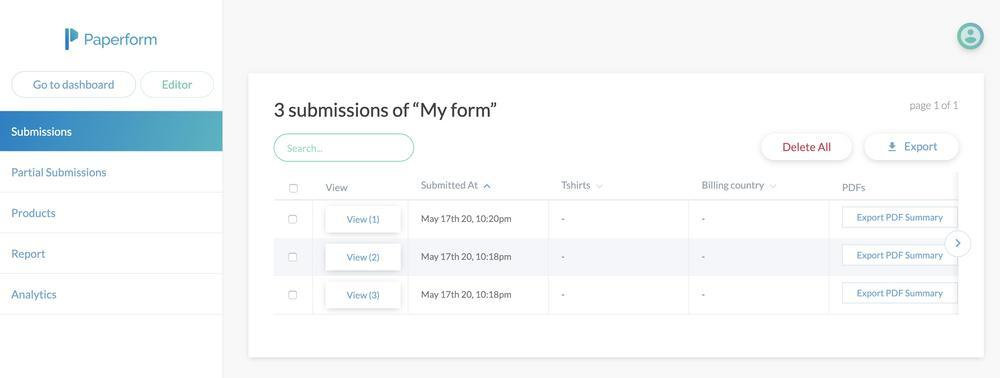button: (2, 111, 224, 153), (14, 72, 137, 99), (865, 133, 962, 161), (761, 135, 855, 161), (843, 283, 958, 304), (325, 206, 405, 236), (844, 245, 958, 266), (326, 280, 404, 310), (326, 244, 404, 273), (844, 209, 959, 228), (142, 72, 215, 99)
checkbox: (289, 254, 299, 263), (289, 216, 298, 225), (289, 291, 298, 300), (290, 185, 298, 194)
input: (275, 134, 416, 163)
label: (10, 166, 108, 184), (12, 287, 59, 304), (10, 207, 58, 223), (10, 247, 48, 264)
table: (275, 174, 961, 319)
